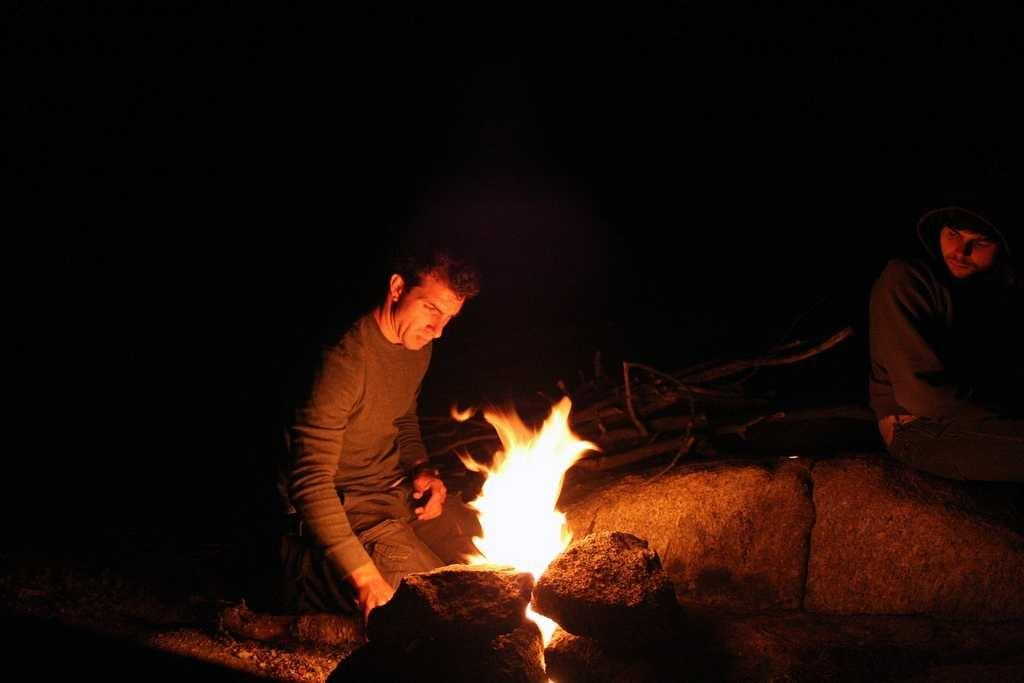fire: (456, 401, 604, 577)
